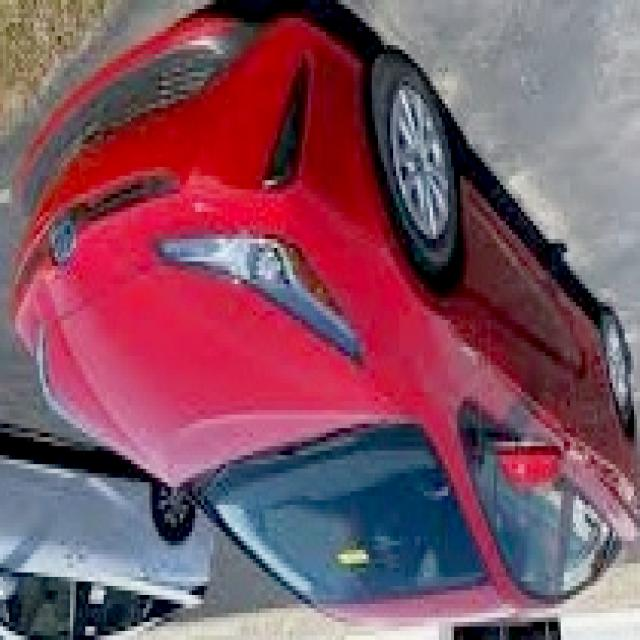red: (15, 35, 640, 618)
